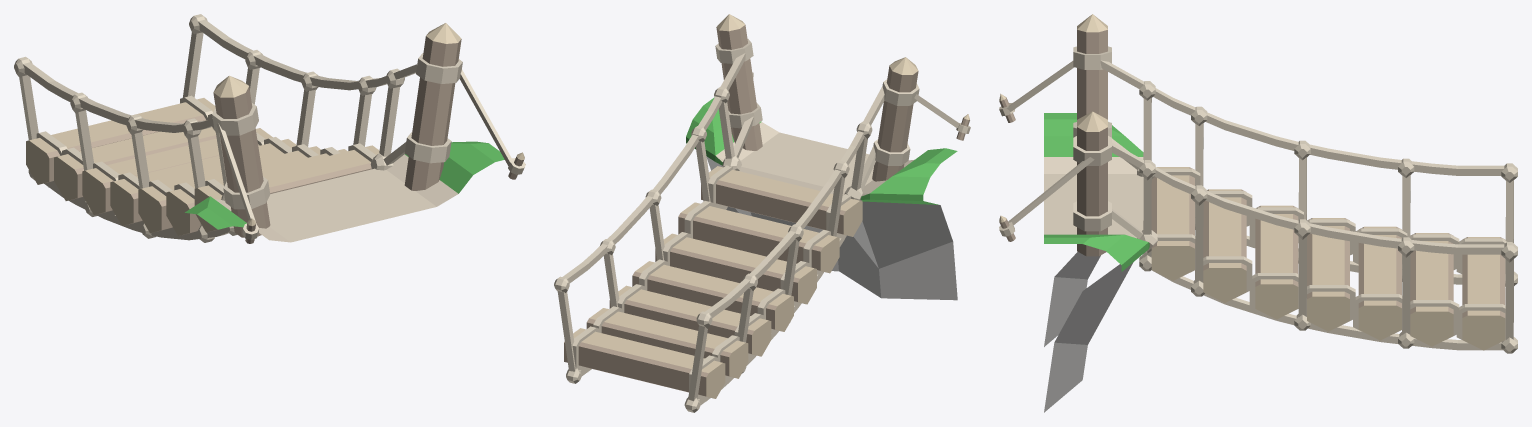
Rendered from Cliff_Prop_Bridge_Rope_End.glb.
3 renders of one model, left to right at view 1: azimuth 30°, elevation 25°; view 2: azimuth 150°, elevation 25°; view 3: azimuth 270°, elevation 25°, orthographic. The views are drawn at different scales.
Parts seen in each view (by area): view 1: Cliff_Prop_Bridge_Rope_End; view 2: Cliff_Prop_Bridge_Rope_End; view 3: Cliff_Prop_Bridge_Rope_End.
Boxes of the visible parts, box(x1,y1,x2,y2) form: Cliff_Prop_Bridge_Rope_End: box(14, 14, 525, 243); Cliff_Prop_Bridge_Rope_End: box(554, 14, 970, 412); Cliff_Prop_Bridge_Rope_End: box(999, 14, 1517, 412).
Size of the model in its own units: 2 by 2.02 by 3.34.
